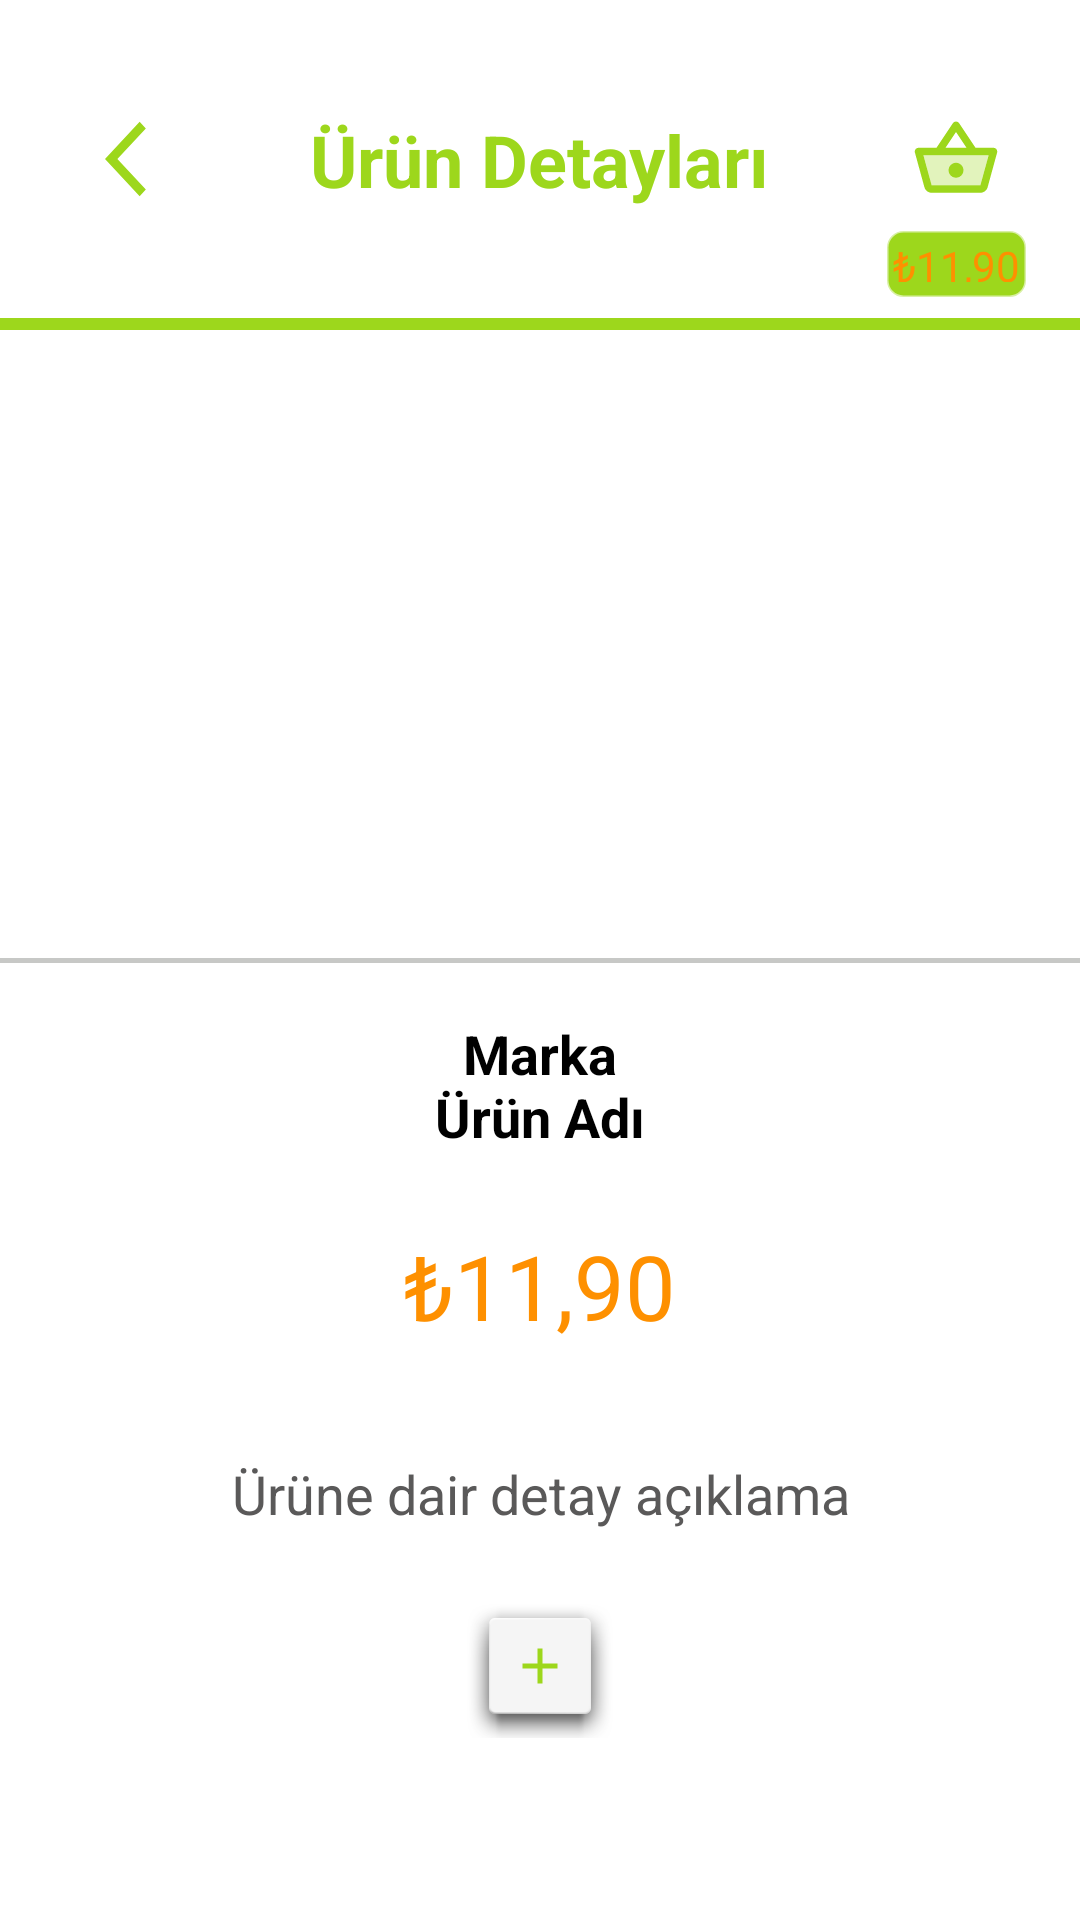

Point at icon controls on the screen. Image size 1080px×1920px, points as point (x, y).
add symbol: point (540, 1673)
back symbol: point (125, 159)
shopping box symbol: point (956, 157)
